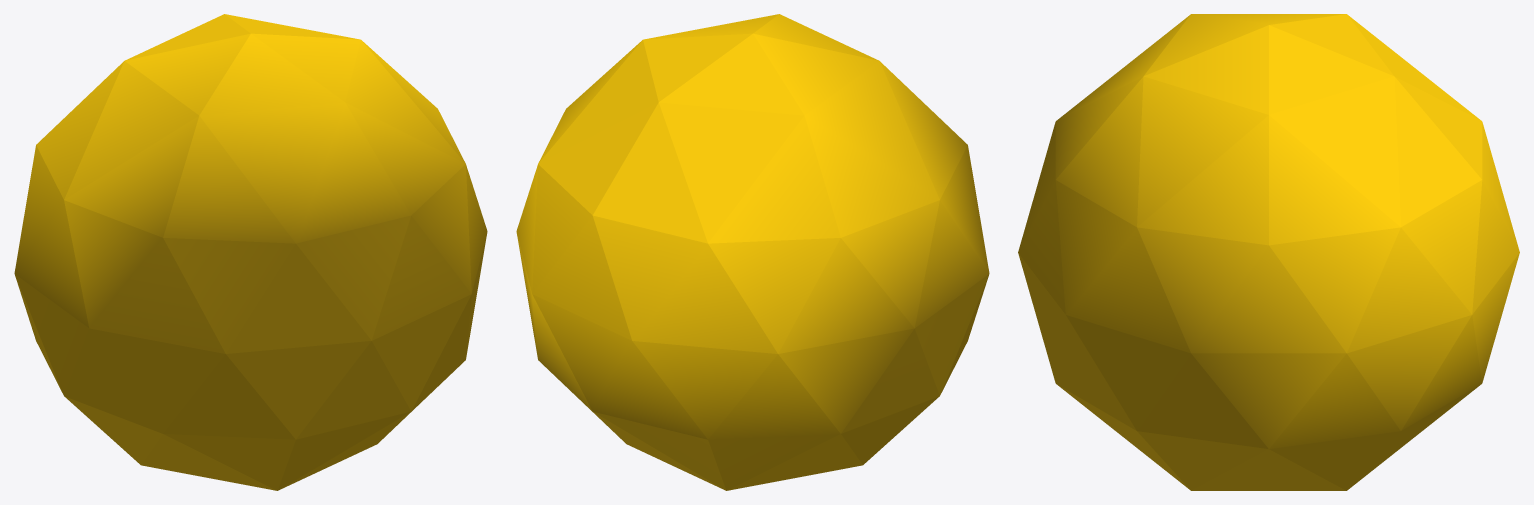
File: uvmd-0251.glb
The picture shows the model from 3 angles, left to right: view 1: azimuth 30°, elevation 25°; view 2: azimuth 150°, elevation 25°; view 3: azimuth 270°, elevation 25°; orthographic projection. The views are drawn at different scales.
Visible parts, largest first — view 1: uvmd-0251; view 2: uvmd-0251; view 3: uvmd-0251.
Boxes of the visible parts, bbox=[...] form: uvmd-0251: bbox=[14, 14, 487, 490]; uvmd-0251: bbox=[516, 14, 989, 490]; uvmd-0251: bbox=[1018, 14, 1519, 490].
Size of the model in its own units: 952 by 1000 by 1000.
Materials: 1 (1 with a texture image).
